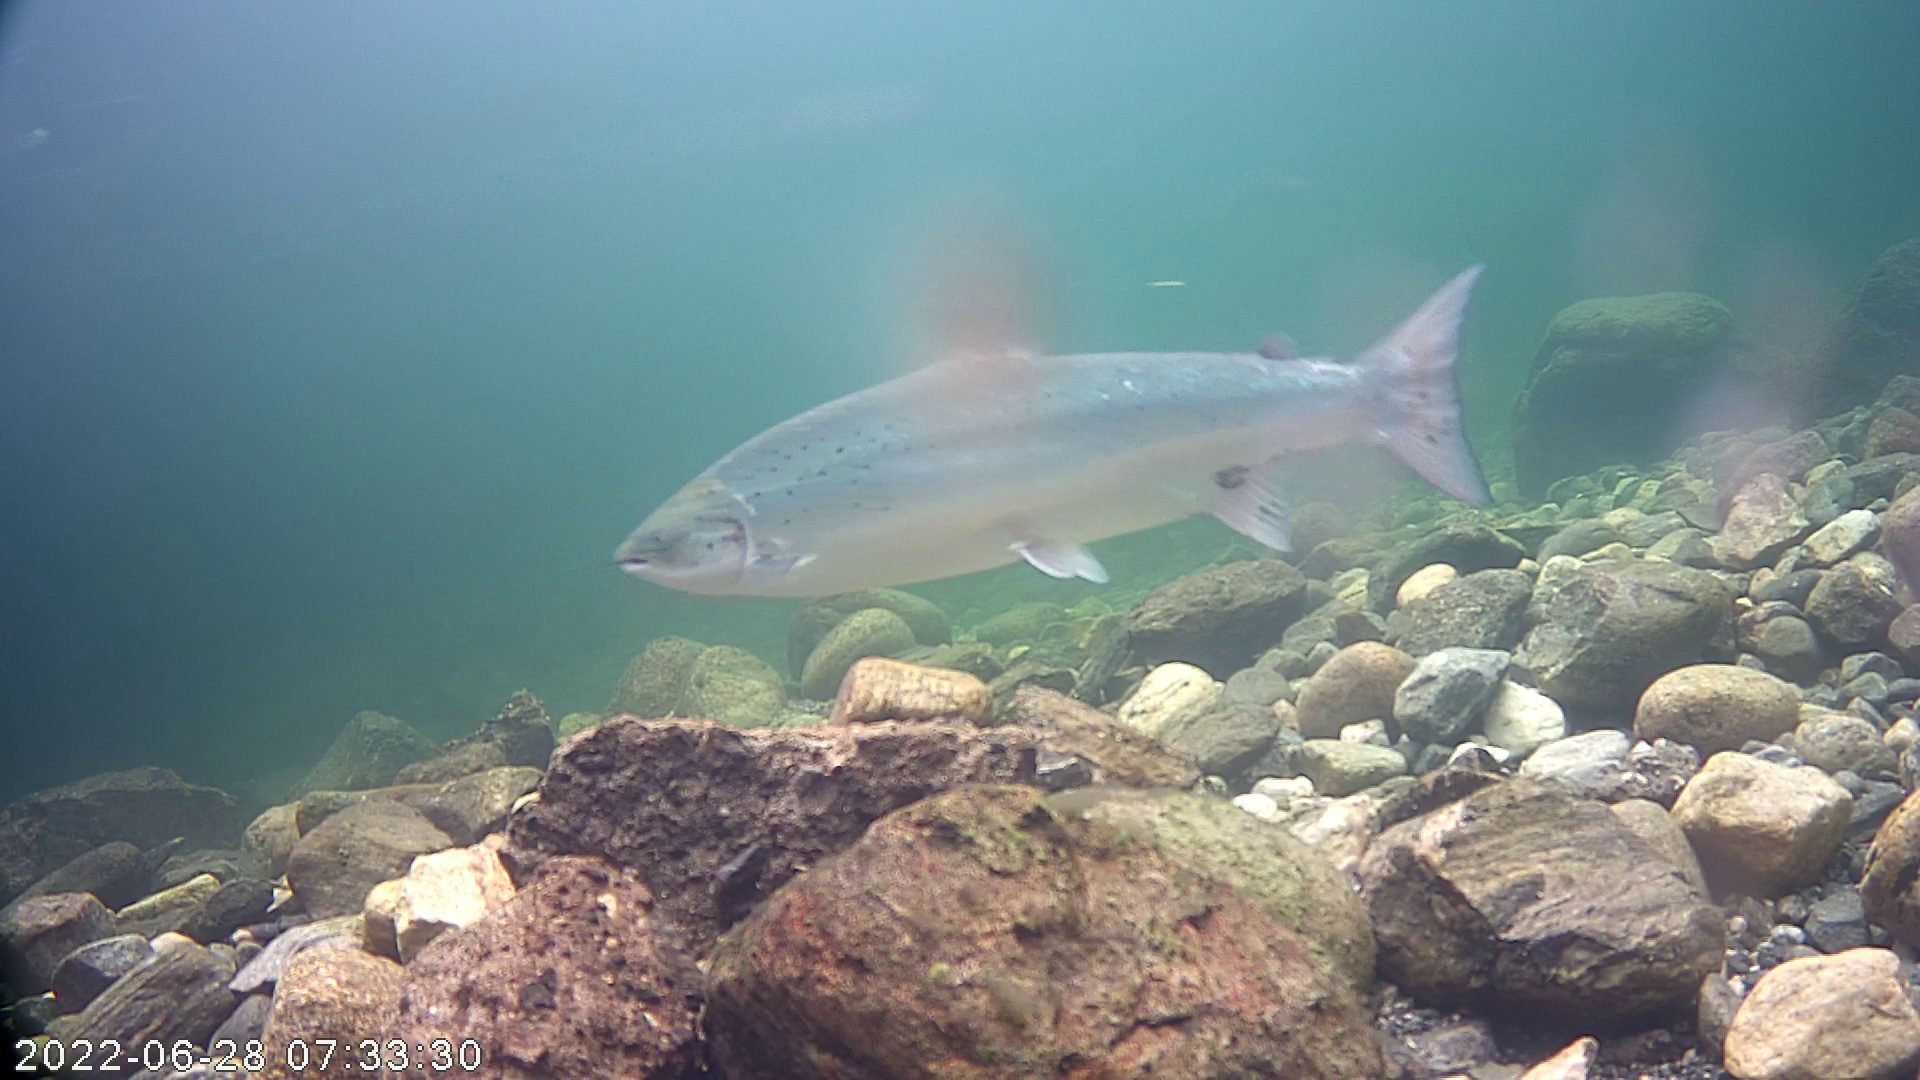salmon: (607, 196, 1523, 636)
